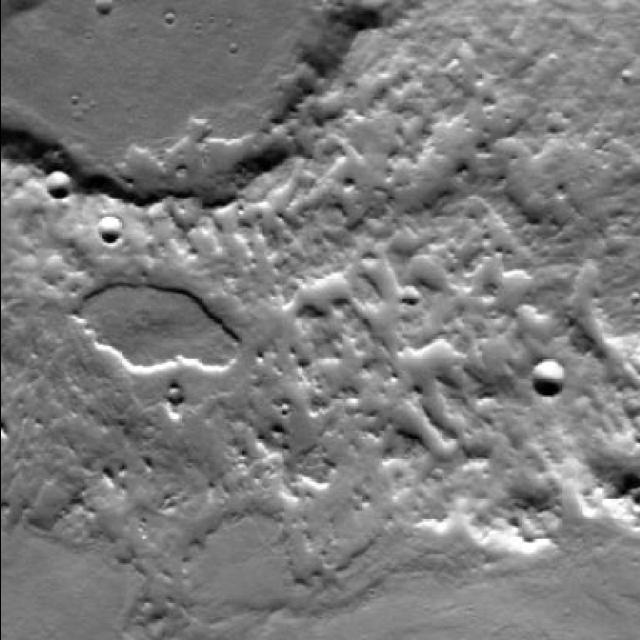crater: (0, 1, 391, 204), (532, 357, 566, 394), (94, 212, 122, 242), (44, 170, 72, 198)
